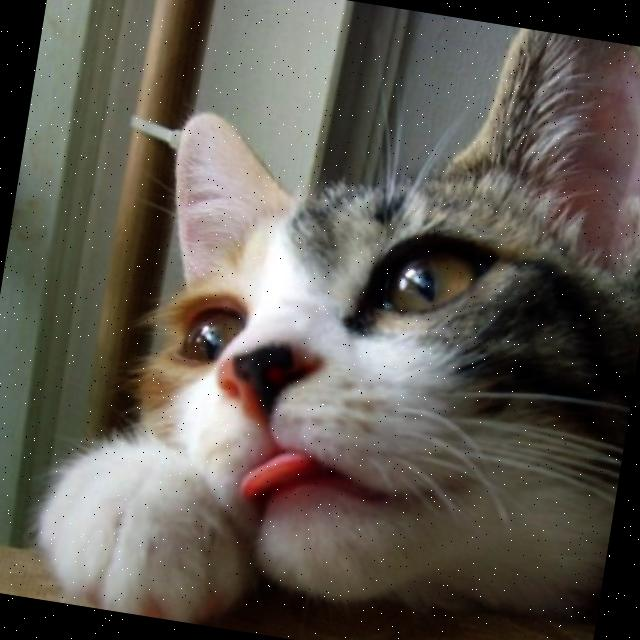Happy: (126, 165, 548, 578)
